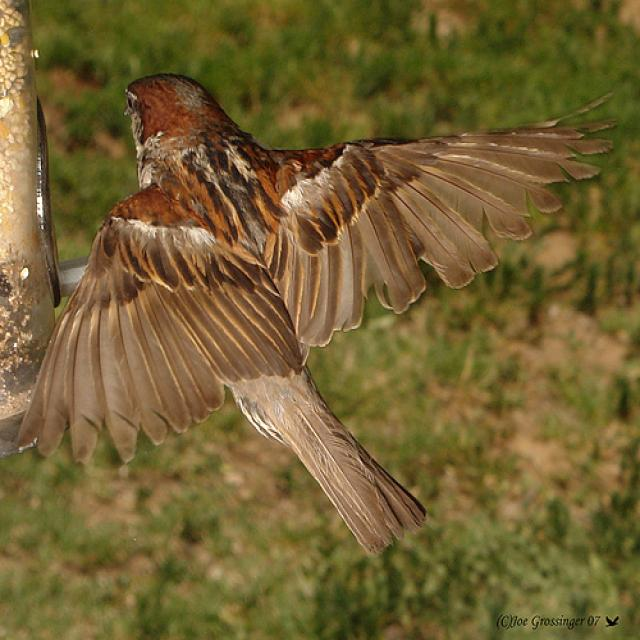bird: (15, 73, 617, 558)
